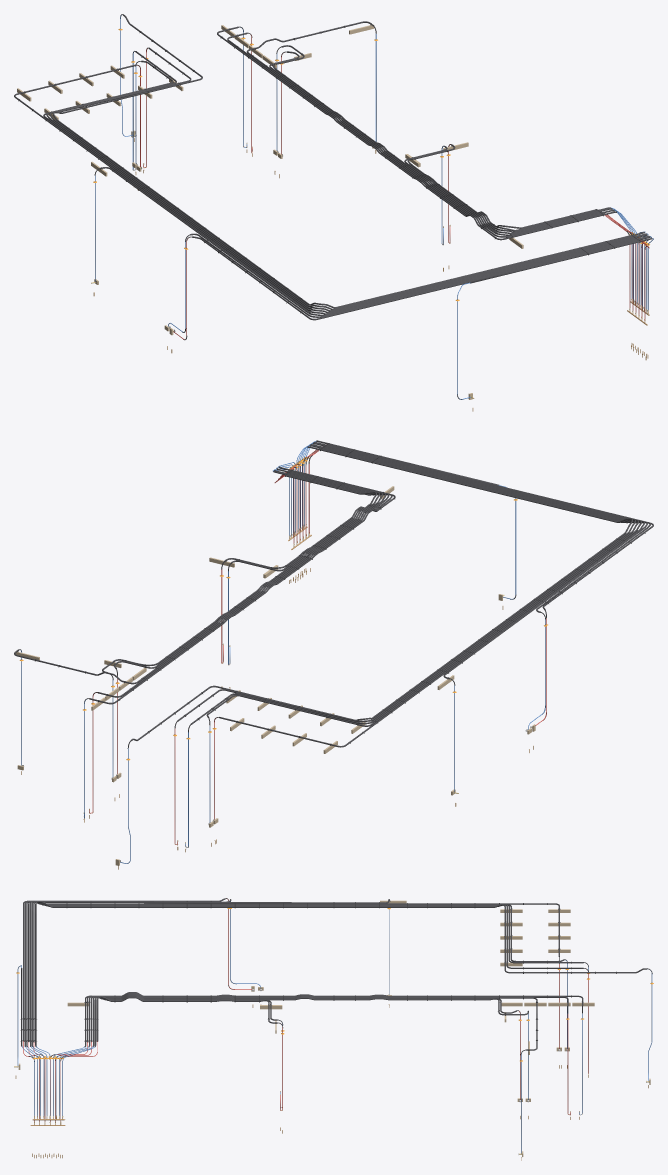
Rendered from slab_pipes_supply__plumbing-attic_repipe.glb.
3 renders of one model, top to bottom at view 1: azimuth 30°, elevation 25°; view 2: azimuth 150°, elevation 25°; view 3: azimuth 270°, elevation 25°, orthographic. The views are drawn at different scales.
Visible parts, largest first — view 1: foam_supply_repipe_hallbath_toilet, foam_supply_repipe_hallbath_tub_hot, foam_supply_repipe_hallbath_vanity_cold, foam_supply_repipe_hallbath_tub_cold, foam_supply_repipe_hallbath_vanity_hot, blocking_supply_repipe_bays, foam_supply_repipe_master_toilet, foam_supply_repipe_hosebib_back, foam_supply_repipe_master_tub_cold, foam_supply_repipe_kitchen_hot, foam_supply_repipe_master_tub_hot, foam_supply_repipe_master_vanity_cold (+3 smaller); view 2: foam_supply_repipe_hallbath_toilet, foam_supply_repipe_hallbath_tub_hot, foam_supply_repipe_hallbath_tub_cold, foam_supply_repipe_hallbath_vanity_cold, foam_supply_repipe_hallbath_vanity_hot, blocking_supply_repipe_bays, foam_supply_repipe_master_toilet, foam_supply_repipe_hosebib_back, foam_supply_repipe_master_tub_cold, foam_supply_repipe_master_tub_hot, foam_supply_repipe_master_vanity_cold, foam_supply_repipe_master_vanity_hot (+3 smaller); view 3: foam_supply_repipe_hallbath_toilet, blocking_supply_repipe_bays, foam_supply_repipe_hallbath_tub_hot, foam_supply_repipe_master_tub_cold, foam_supply_repipe_master_toilet, foam_supply_repipe_hallbath_tub_cold, foam_supply_repipe_hosebib_back, foam_supply_repipe_master_tub_hot, foam_supply_repipe_hallbath_vanity_hot, foam_supply_repipe_hallbath_vanity_cold, foam_supply_repipe_master_vanity_cold, foam_supply_repipe_kitchen_hot (+4 smaller).
Boxes of the visible parts, left/top/right/bottom form: foam_supply_repipe_hallbath_toilet: left=52, top=14, right=644, bottom=308; foam_supply_repipe_hallbath_tub_hot: left=49, top=47, right=635, bottom=309; foam_supply_repipe_hallbath_vanity_cold: left=43, top=60, right=647, bottom=312; foam_supply_repipe_hallbath_tub_cold: left=46, top=51, right=646, bottom=311; foam_supply_repipe_hallbath_vanity_hot: left=14, top=64, right=637, bottom=314; blocking_supply_repipe_bays: left=17, top=24, right=523, bottom=248; foam_supply_repipe_master_toilet: left=246, top=21, right=614, bottom=235; foam_supply_repipe_hosebib_back: left=100, top=167, right=649, bottom=315; foam_supply_repipe_master_tub_cold: left=217, top=26, right=616, bottom=240; foam_supply_repipe_kitchen_hot: left=192, top=236, right=639, bottom=320; foam_supply_repipe_master_tub_hot: left=227, top=32, right=604, bottom=237; foam_supply_repipe_master_vanity_cold: left=272, top=45, right=612, bottom=232; foam_supply_repipe_hallbath_toilet: left=131, top=446, right=632, bottom=740; foam_supply_repipe_hallbath_tub_hot: left=177, top=448, right=635, bottom=722; foam_supply_repipe_hallbath_tub_cold: left=191, top=444, right=638, bottom=724; foam_supply_repipe_hallbath_vanity_cold: left=206, top=444, right=641, bottom=726; foam_supply_repipe_hallbath_vanity_hot: left=219, top=446, right=644, bottom=747; blocking_supply_repipe_bays: left=15, top=486, right=454, bottom=753; foam_supply_repipe_master_toilet: left=14, top=468, right=389, bottom=684; foam_supply_repipe_hosebib_back: left=313, top=442, right=647, bottom=679; foam_supply_repipe_master_tub_cold: left=89, top=466, right=395, bottom=704; foam_supply_repipe_master_tub_hot: left=97, top=470, right=392, bottom=697; foam_supply_repipe_master_vanity_cold: left=102, top=470, right=383, bottom=672; foam_supply_repipe_master_vanity_hot: left=113, top=472, right=386, bottom=668; foam_supply_repipe_hallbath_toilet: left=35, top=901, right=646, bottom=1046; blocking_supply_repipe_bays: left=67, top=900, right=594, bottom=1054; foam_supply_repipe_hallbath_tub_hot: left=33, top=901, right=583, bottom=1042; foam_supply_repipe_master_tub_cold: left=84, top=992, right=583, bottom=1047; foam_supply_repipe_master_toilet: left=88, top=993, right=537, bottom=1050; foam_supply_repipe_hallbath_tub_cold: left=31, top=901, right=583, bottom=1046; foam_supply_repipe_hosebib_back: left=26, top=900, right=389, bottom=1046; foam_supply_repipe_master_tub_hot: left=87, top=992, right=568, bottom=1042; foam_supply_repipe_hallbath_vanity_hot: left=28, top=900, right=559, bottom=1041; foam_supply_repipe_hallbath_vanity_cold: left=30, top=900, right=564, bottom=1046; foam_supply_repipe_master_vanity_cold: left=92, top=995, right=528, bottom=1046; foam_supply_repipe_kitchen_hot: left=23, top=898, right=225, bottom=1041.
Bounding box in the file's own units: 9.32 × 3.28 × 16.24.
